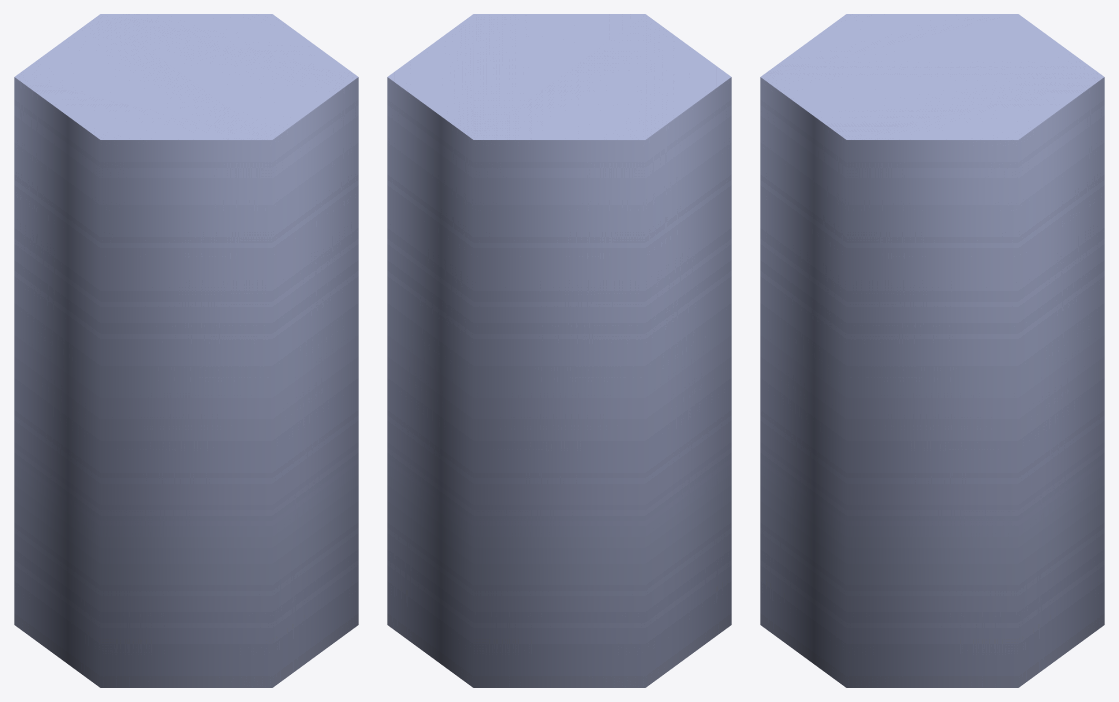
Rendered from pipe.glb.
3 views of the same model, side by side, from view 1: azimuth 30°, elevation 25°; view 2: azimuth 150°, elevation 25°; view 3: azimuth 270°, elevation 25° (orthographic).
Parts seen in each view (by area): view 1: pipe; view 2: pipe; view 3: pipe.
Part boxes in pixels (x1,y1,x2,y2): pipe: (14,14,358,687); pipe: (387,14,731,687); pipe: (760,14,1104,687).
Size of the model in its own units: 0.2464 by 0.5 by 0.2845.
1 material, 1 textured.
